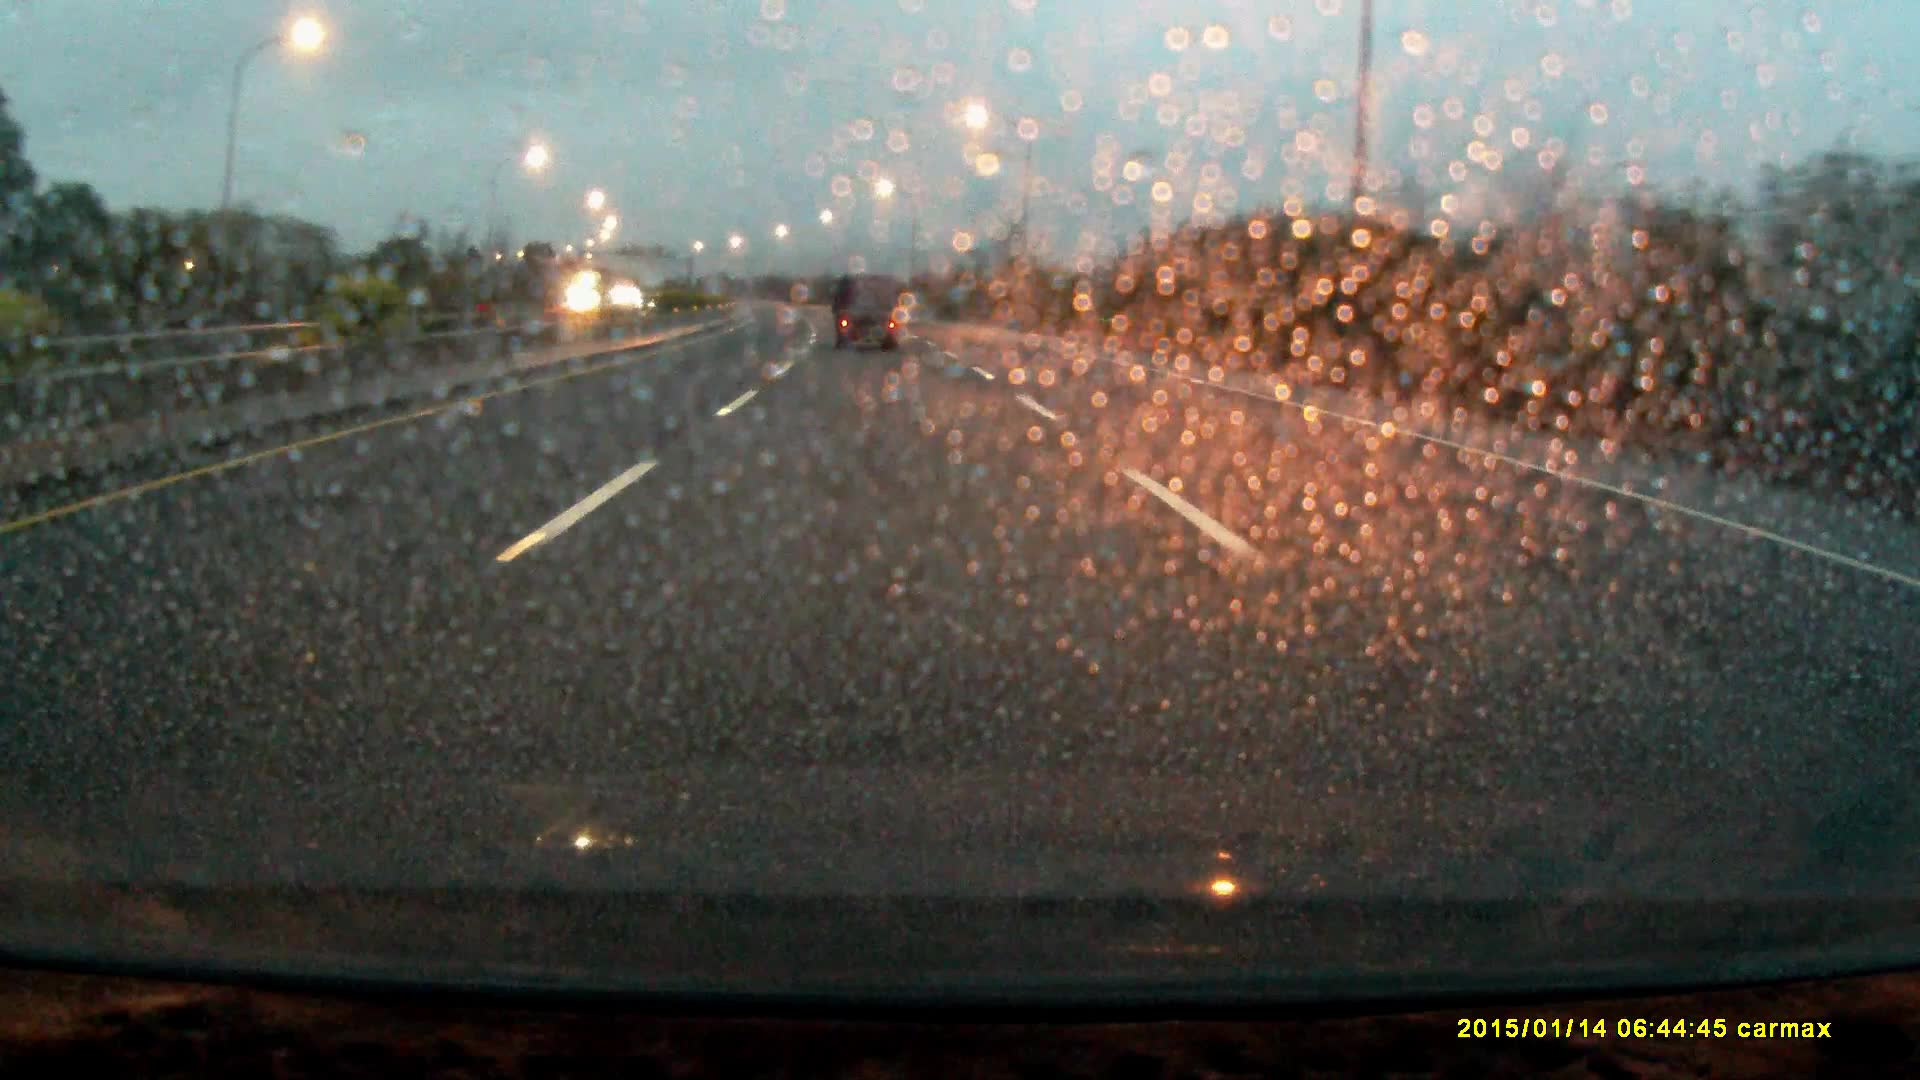vehicle: (832, 276, 902, 355), (571, 269, 636, 319)
